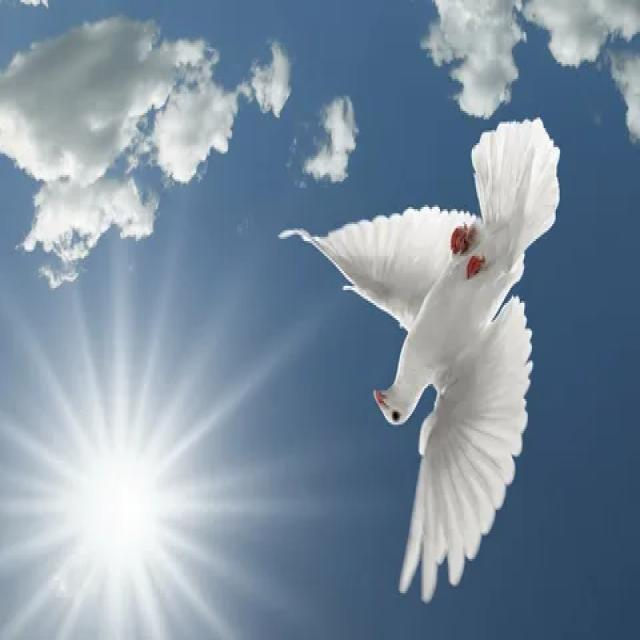pigeon: (278, 104, 576, 611)
